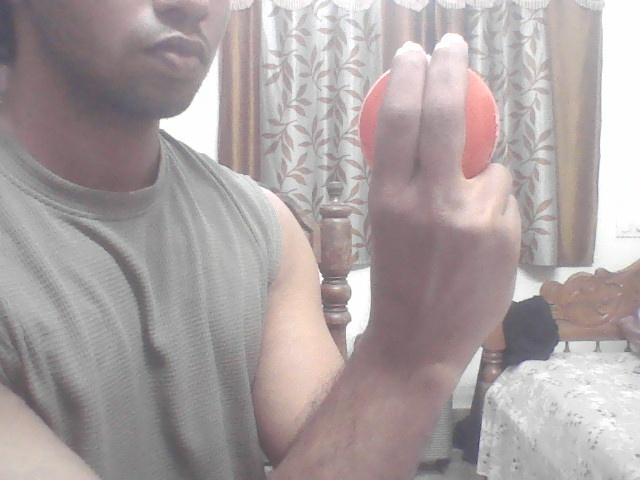cricket_ball: (351, 65, 501, 178)
